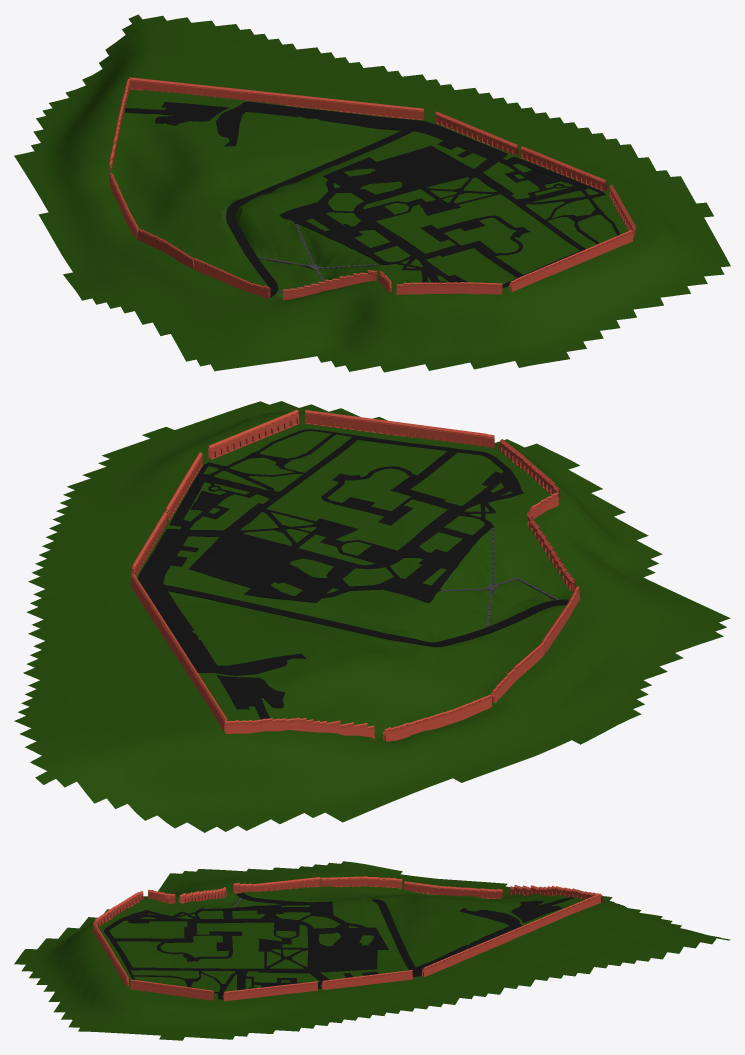
File: kremlin3.glb
3 renders of one model, top to bottom at view 1: azimuth 30°, elevation 25°; view 2: azimuth 150°, elevation 25°; view 3: azimuth 270°, elevation 25°, orthographic. The views are drawn at different scales.
Parts seen in each view (by area): view 1: terrain, road2, walls, road3, road1, road4; view 2: terrain, road2, walls, road3, road1, road4, stairs; view 3: terrain, road2, walls, road3, road1, road4.
Boxes of the visible parts, x1,y1,x2,y2 form: terrain: (14, 14, 730, 372); road2: (279, 145, 619, 287); walls: (108, 77, 636, 300); road3: (216, 101, 499, 158); road1: (226, 128, 412, 296); road4: (124, 102, 229, 125); terrain: (14, 401, 730, 832); road2: (163, 429, 524, 603); walls: (130, 410, 580, 741); road3: (137, 534, 306, 675); road1: (163, 585, 568, 646); road4: (216, 675, 285, 720); stairs: (441, 527, 559, 627); terrain: (14, 861, 730, 1040); road2: (104, 901, 388, 999); walls: (92, 876, 602, 1001); road3: (343, 908, 522, 977); road1: (236, 892, 416, 969); road4: (511, 897, 574, 922).
Size of the model in its own units: 3182 by 392 by 4489.
